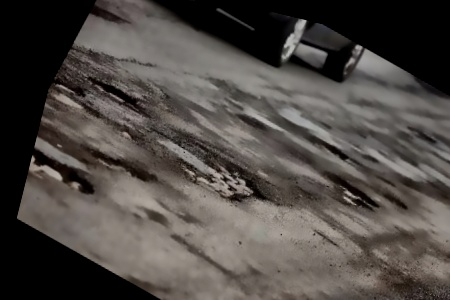pothole: (170, 141, 278, 223), (24, 136, 111, 208), (312, 167, 387, 222), (84, 71, 148, 114), (44, 73, 97, 118), (86, 0, 133, 35), (315, 138, 354, 163)
